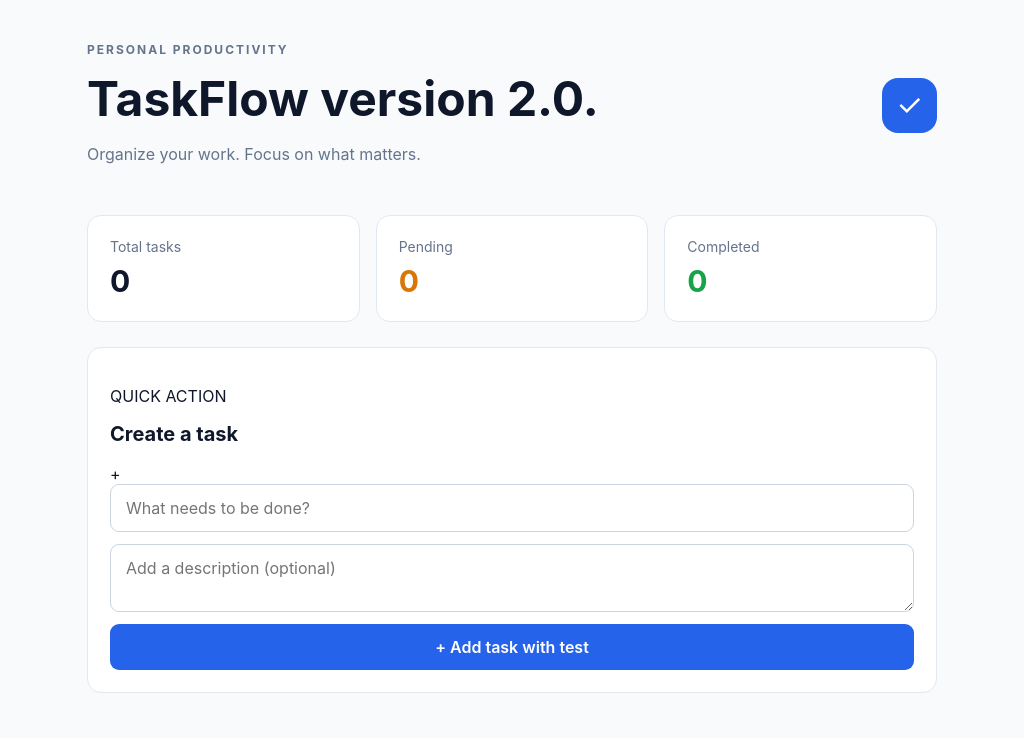
Test: TaskFlow application › should create a task when the user submits the form
The image size is (1024, 738).
In the field with placeholder "What needs to be done?": (512, 508) x1=110 y1=484 x2=914 y2=532, type "Learn GitHub Actions"
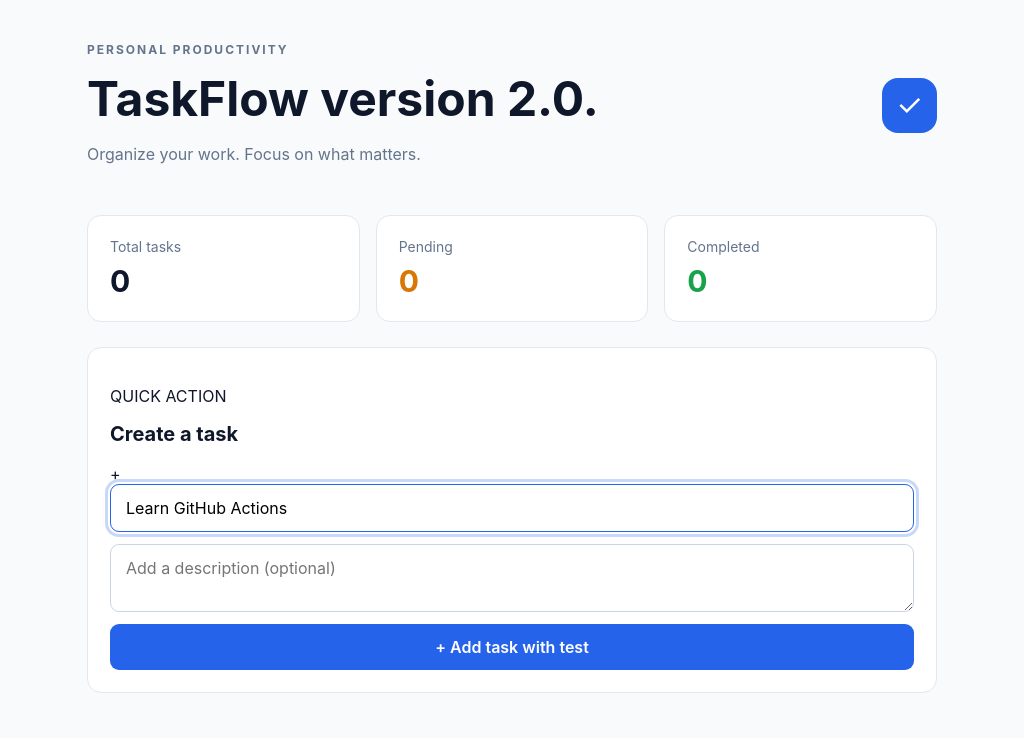
In the text box with placeholder "Add a description (optional)": (512, 578) x1=110 y1=544 x2=914 y2=612, type "Practice automated CI"
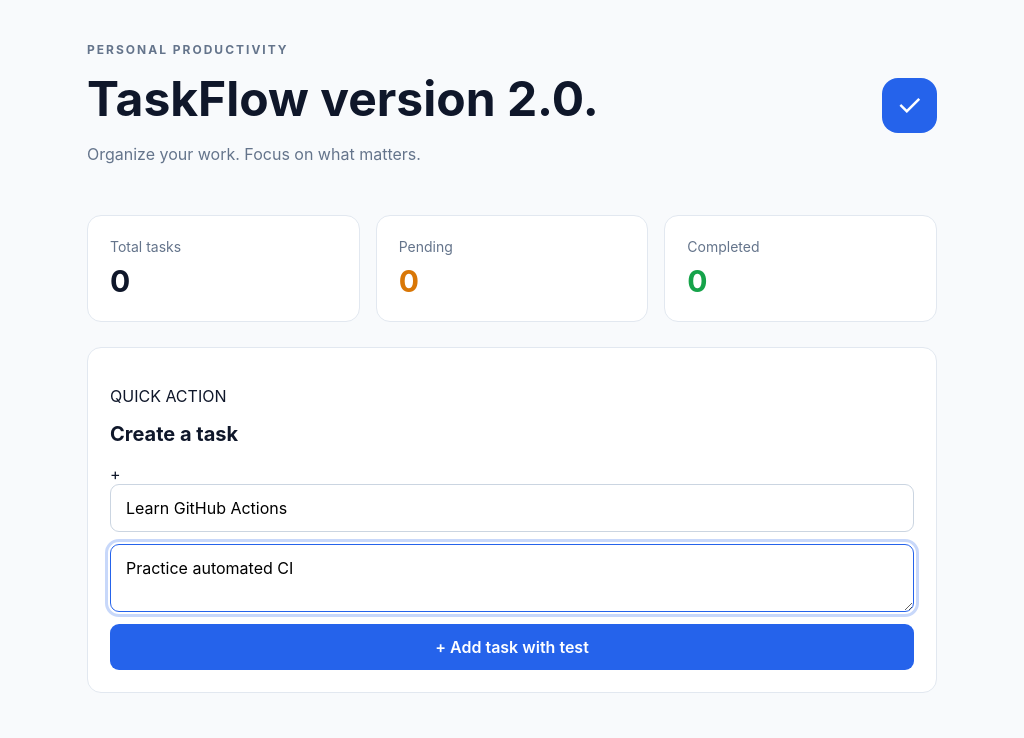
Click the button "+ Add task with test": (512, 647) x1=110 y1=624 x2=914 y2=670
(page scrolled)
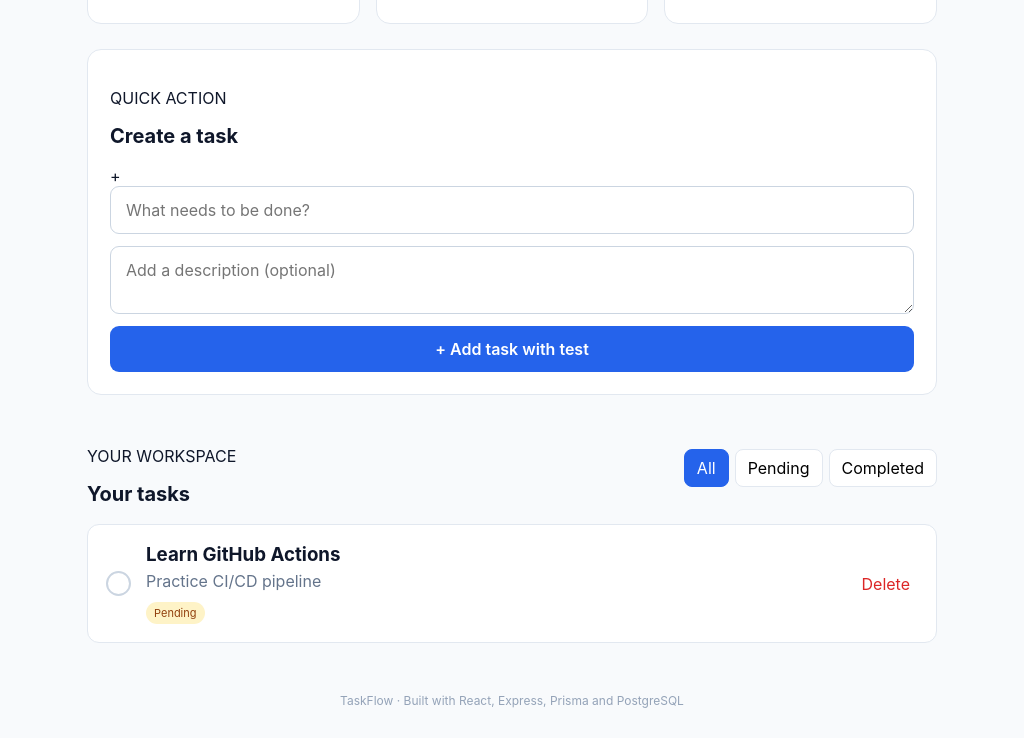
Expected: the heading "Learn GitHub Actions" is shown, x1=146 y1=543 x2=340 y2=566
